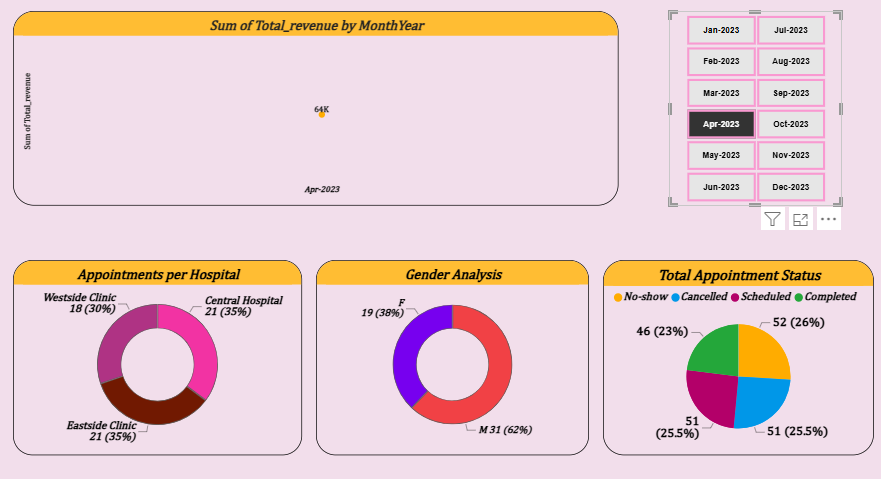

Layout of this report page (visuals, bound fields, positions):
{"tool":"powerbi","page":{"name":"Page 2","canvas":[1280,720],"ordinal":1},"visuals":[{"type":"lineChart","fields":{"Y":["Sum(rev_as_mon_basis.Total_revenue)"],"Category":["rev_as_mon_basis.MonthYear"]},"box":[24.1,24.1,865.4,278.2],"z":0},{"type":"donutChart","title":"Gender Analysis","fields":{"Y":["Sum(Patients by gender.Distribution of gender)"],"Category":["Patients by gender.Gender"]},"box":[457.1,380,390,278.6],"z":1000},{"type":"donutChart","title":" Appointments per Hospital","fields":{"Category":["app_perdoc_branch.hospital_branch"],"Y":["Sum(app_perdoc_branch.appointments_per_doctor)"]},"box":[24.3,380,412.9,278.6],"z":2000},{"type":"pieChart","title":"Total Appointment Status","fields":{"Category":["Appointment status.status"],"Y":["Sum(Appointment status.Status_count)"]},"box":[867.1,380,387.1,278.6],"z":3000},{"type":"slicer","fields":{"Values":["rev_as_mon_basis.MonthYear"]},"box":[961.4,24.3,247.1,278.6],"z":4000}]}

Visuals, with their boxes on the page's 1280x720 design canvas (x1, y1, x2, y2). These are canvas units, not pixel positions in the 881x479 screenshot, which may show the page scaled, cropped or inside an application window:
lineChart - Sum(rev_as_mon_basis.Total_revenue) x rev_as_mon_basis.MonthYear: [x1=24, y1=24, x2=890, y2=302]
"Gender Analysis" donutChart: [x1=457, y1=380, x2=847, y2=659]
" Appointments per Hospital" donutChart: [x1=24, y1=380, x2=437, y2=659]
"Total Appointment Status" pieChart: [x1=867, y1=380, x2=1254, y2=659]
slicer - rev_as_mon_basis.MonthYear: [x1=961, y1=24, x2=1208, y2=303]
